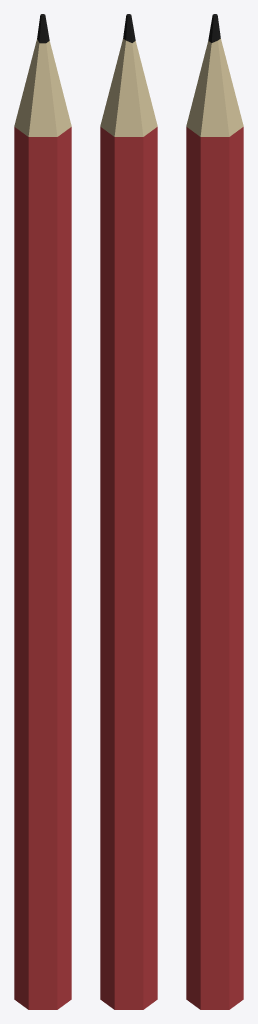
The model's file is PenLong.fbx.
The picture shows the model from 3 angles, left to right: view 1: azimuth 90°, elevation 25°; view 2: azimuth 150°, elevation 25°; view 3: azimuth 270°, elevation 25°; orthographic projection.
Parts seen in each view (by area): view 1: PenMid; view 2: PenMid; view 3: PenMid.
Part boxes in pixels (bbox=[...]): PenMid: bbox=[14, 14, 71, 1009]; PenMid: bbox=[100, 14, 157, 1009]; PenMid: bbox=[186, 14, 243, 1009].
Size of the model in its own units: 1.46 by 31.87 by 1.69.
